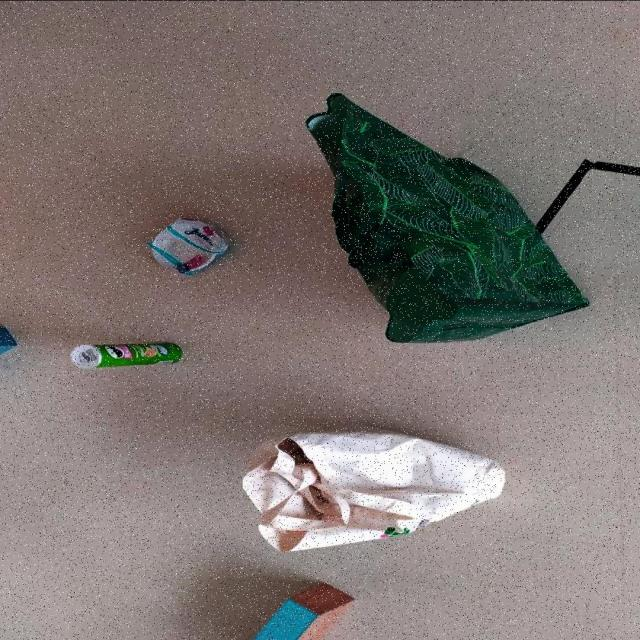Bag: (300, 88, 598, 346), (236, 424, 512, 556)
Plate: (146, 216, 234, 273)
Pringles: (70, 341, 186, 369)
